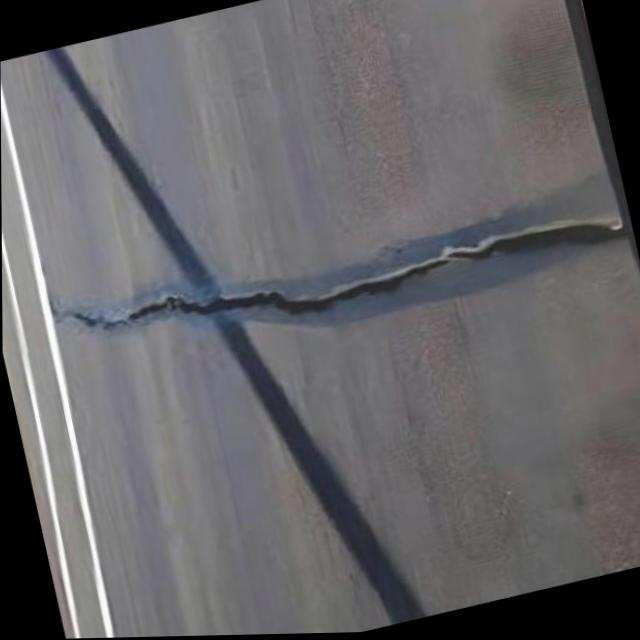Crack: (5, 166, 632, 403)
